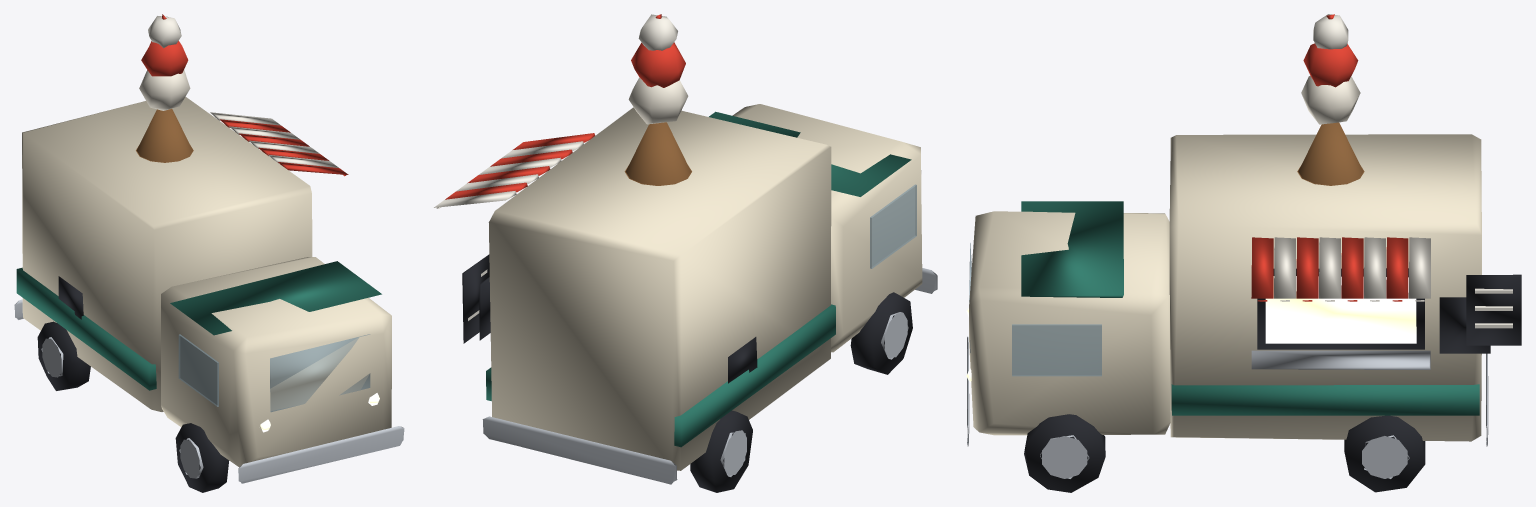
The model's file is lod_food_truck_icecream.glb.
3 views of the same model, side by side, from view 1: azimuth 30°, elevation 25°; view 2: azimuth 150°, elevation 25°; view 3: azimuth 270°, elevation 25° (orthographic). The views are drawn at different scales.
Visible parts, largest first — view 1: food_truck_icecream; view 2: food_truck_icecream; view 3: food_truck_icecream.
Part boxes in pixels (x1,y1,x2,y2): food_truck_icecream: (14, 14, 404, 492); food_truck_icecream: (434, 14, 937, 492); food_truck_icecream: (966, 14, 1521, 492).
Bounding box in the file's own units: 2.86 × 4.23 × 4.94.
